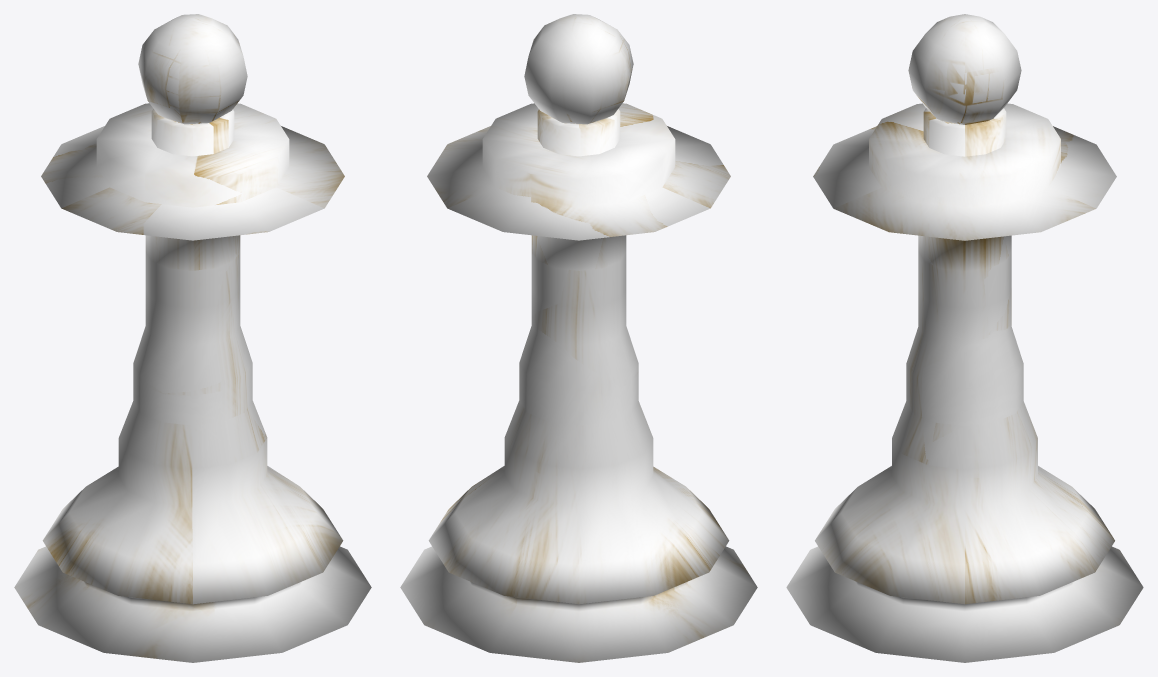
The model's file is White Pawn.fbx.
3 views of the same model, side by side, from view 1: azimuth 30°, elevation 25°; view 2: azimuth 150°, elevation 25°; view 3: azimuth 270°, elevation 25° (orthographic).
Visible parts, largest first — view 1: Pawn_Piece:cylinder, Pawn_Piece:sphere; view 2: Pawn_Piece:cylinder, Pawn_Piece:sphere; view 3: Pawn_Piece:cylinder, Pawn_Piece:sphere.
Boxes of the visible parts, x1,y1,x2,y2 form: Pawn_Piece:cylinder: (14, 103, 371, 662); Pawn_Piece:sphere: (138, 14, 247, 124); Pawn_Piece:cylinder: (400, 103, 757, 662); Pawn_Piece:sphere: (524, 14, 633, 124); Pawn_Piece:cylinder: (786, 103, 1143, 662); Pawn_Piece:sphere: (908, 14, 1021, 124).
Bounding box in the file's own units: 2.89 × 5.07 × 2.89.
1 material, 1 textured.
